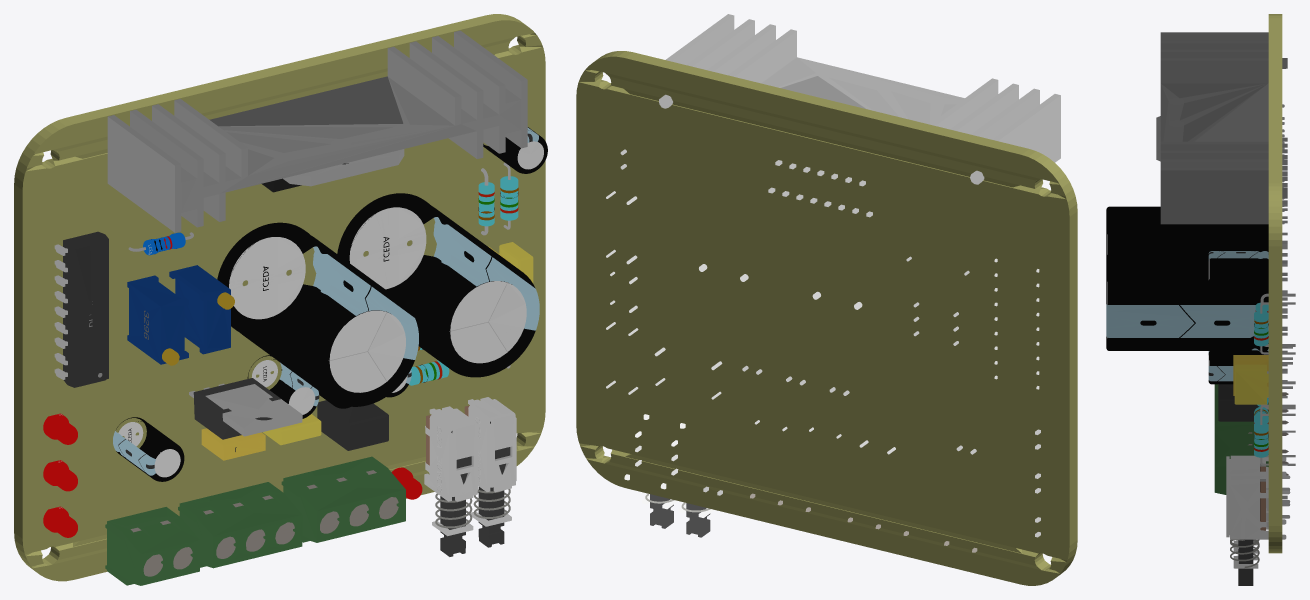
Rendered from OBJ_PCB_AmpAB100.obj.
3 views of the same model, side by side, from view 1: azimuth 30°, elevation 25°; view 2: azimuth 150°, elevation 25°; view 3: azimuth 270°, elevation 25° (orthographic). The views are drawn at different scales.
Size of the model in its own units: 353 by 327 by 138.
